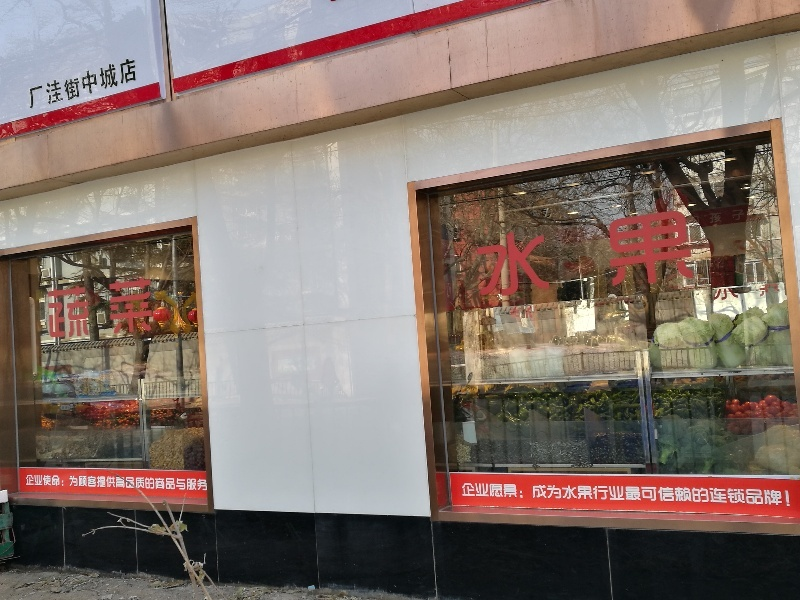text: (481, 208, 496, 304), (497, 208, 512, 304), (513, 208, 528, 304), (529, 208, 544, 304), (545, 208, 560, 304), (561, 208, 576, 304), (577, 208, 592, 304), (593, 208, 608, 304), (609, 208, 624, 304), (625, 208, 640, 304), (641, 208, 656, 304), (657, 208, 672, 304), (673, 208, 688, 304), (469, 208, 480, 304), (49, 274, 64, 344), (65, 274, 80, 344), (81, 274, 96, 344), (97, 274, 112, 344), (113, 274, 128, 344), (129, 274, 144, 344), (145, 274, 158, 344), (33, 56, 48, 112), (49, 56, 64, 112), (65, 56, 80, 112), (81, 56, 96, 112), (97, 56, 112, 112), (113, 56, 128, 112), (689, 208, 697, 304), (129, 56, 142, 112), (23, 56, 32, 112), (465, 480, 480, 511), (481, 480, 496, 511), (497, 480, 512, 511), (513, 480, 528, 511), (529, 480, 544, 511), (545, 480, 560, 511), (561, 480, 576, 511), (577, 480, 592, 511), (593, 480, 608, 511), (609, 480, 624, 511), (625, 480, 640, 511), (641, 480, 656, 511), (657, 480, 672, 511), (673, 480, 688, 511), (689, 480, 704, 511), (705, 480, 720, 511), (721, 480, 736, 511), (737, 480, 752, 511), (753, 480, 768, 511), (769, 480, 784, 511), (44, 274, 48, 344), (785, 480, 794, 511), (193, 475, 209, 491), (33, 475, 48, 491), (49, 475, 64, 491), (65, 475, 80, 491), (81, 475, 96, 491), (97, 475, 112, 491), (113, 475, 128, 491), (129, 475, 144, 491), (145, 475, 160, 491), (161, 475, 176, 491), (177, 475, 192, 491), (26, 475, 32, 491), (461, 480, 464, 511)
